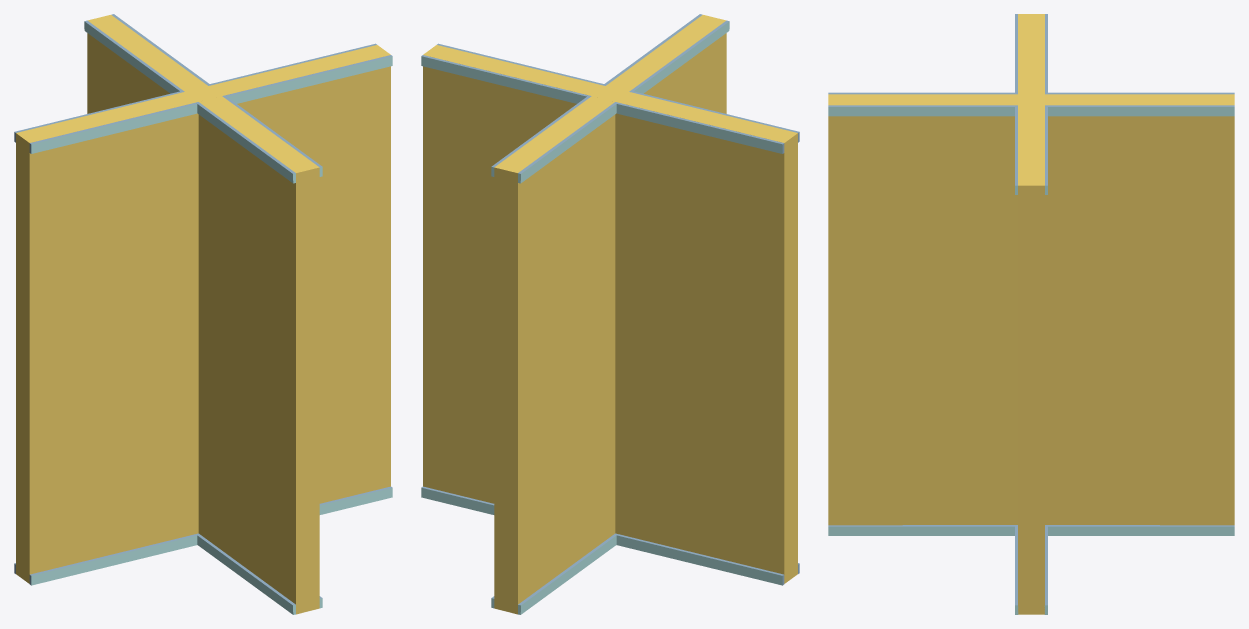
Rendered from Wall +.fbx.
3 views of the same model, side by side, from view 1: azimuth 30°, elevation 25°; view 2: azimuth 150°, elevation 25°; view 3: azimuth 270°, elevation 25° (orthographic). The views are drawn at different scales.
Visible parts, largest first — view 1: Wall +; view 2: Wall +; view 3: Wall +.
Part boxes in pixels (<box>): Wall +: <box>14,14,392,614</box>; Wall +: <box>421,14,799,614</box>; Wall +: <box>828,14,1234,614</box>.
Bounding box in the file's own units: 600 × 700 × 600.
